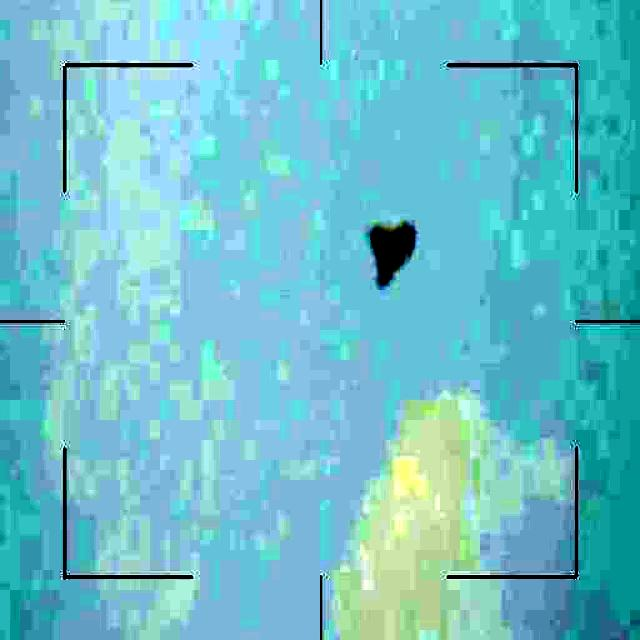bird: (369, 212, 419, 285)
